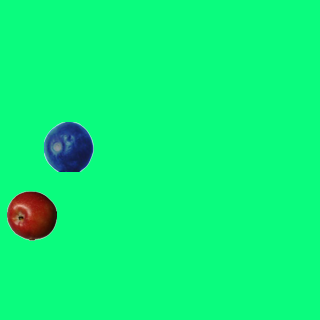Apple Braeburn: (6, 190, 56, 240)
Huckleberry: (43, 121, 93, 171)
